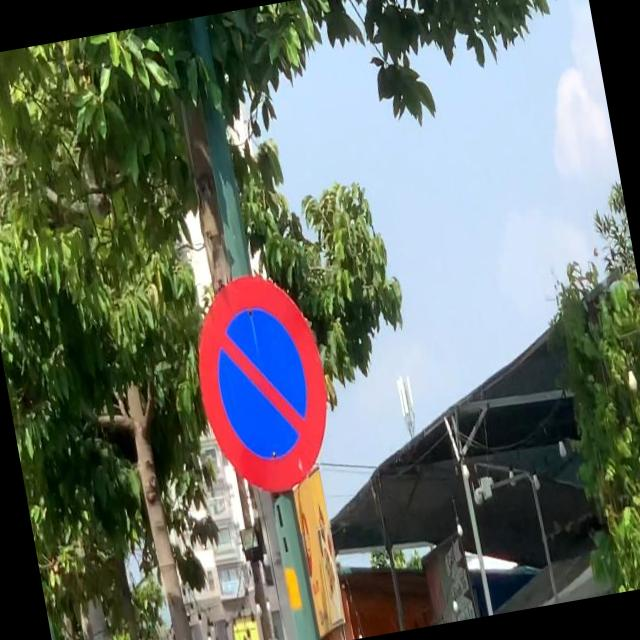P-131a: (180, 266, 340, 502)
